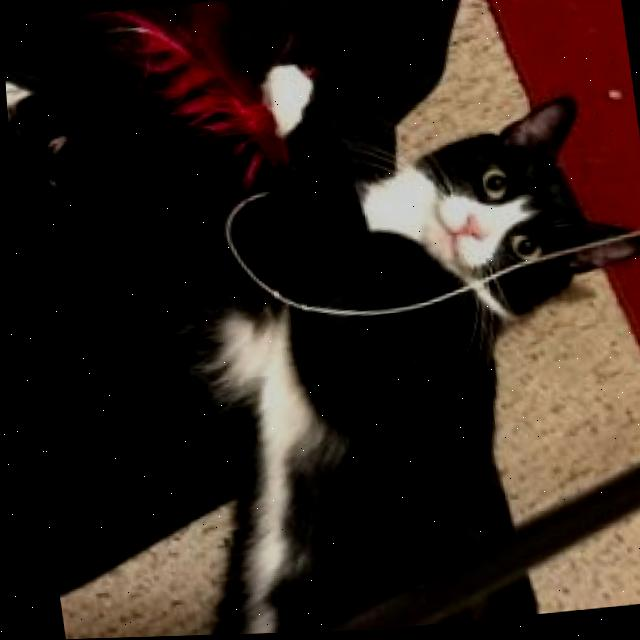Tuxedo: (2, 18, 640, 640)
